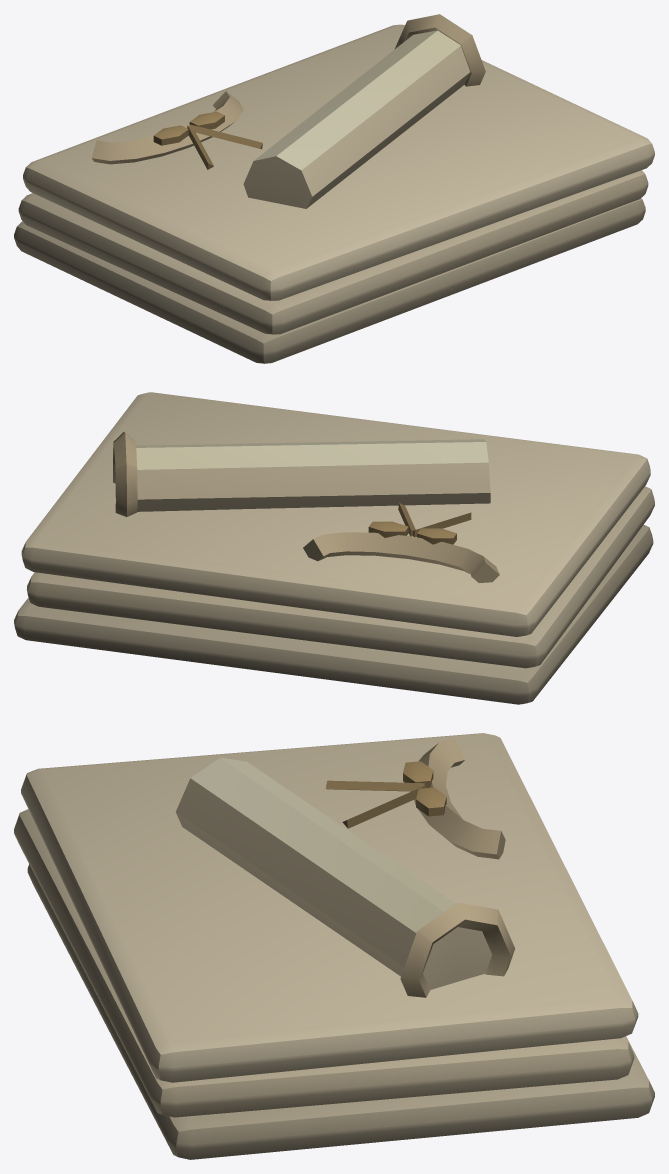
File: ph_item_burial_gown.glb
3 views of the same model, one above another, from view 1: azimuth 30°, elevation 25°; view 2: azimuth 150°, elevation 25°; view 3: azimuth 270°, elevation 25° (orthographic). The views are drawn at different scales.
Parts seen in each view (by area): view 1: ph_item_burial_gown; view 2: ph_item_burial_gown; view 3: ph_item_burial_gown.
Part boxes in pixels (bbox=[...]): ph_item_burial_gown: bbox=[14, 14, 654, 363]; ph_item_burial_gown: bbox=[14, 392, 654, 704]; ph_item_burial_gown: bbox=[14, 733, 654, 1159].
Size of the model in its own units: 0.3397 by 0.0988 by 0.2839.
